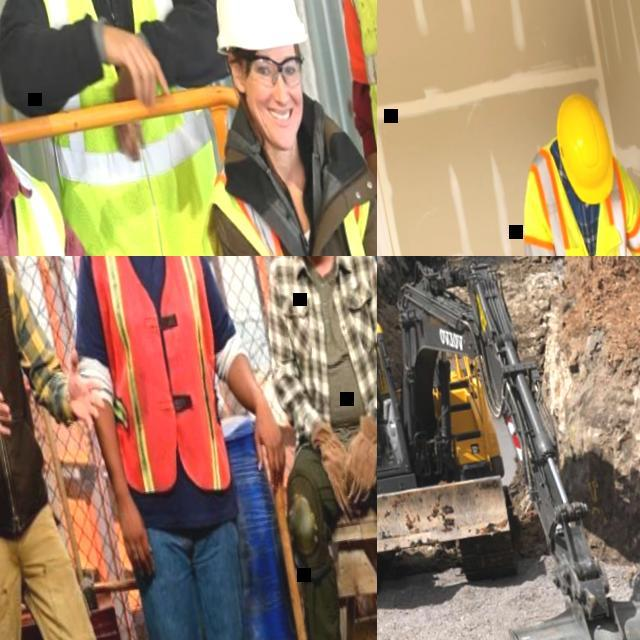helmet: (548, 86, 620, 208), (198, 0, 310, 61)
vest: (4, 0, 241, 256), (62, 256, 241, 491), (185, 141, 377, 256), (505, 121, 640, 256), (0, 102, 90, 256)
